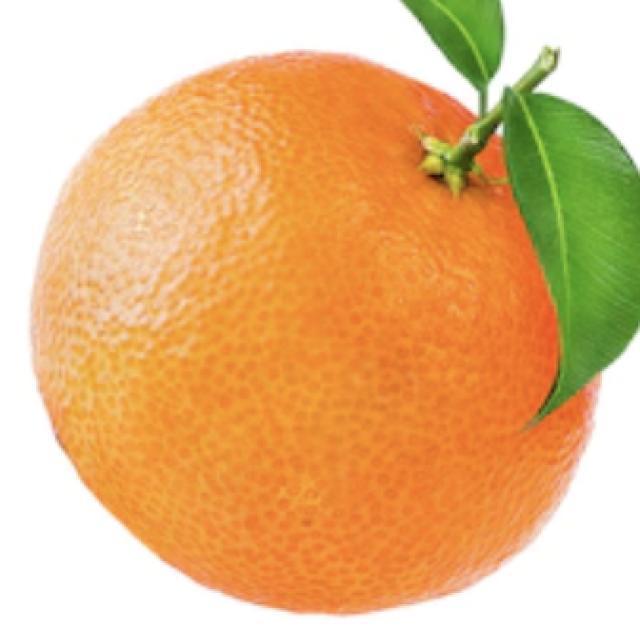Orange: (29, 47, 603, 616)
